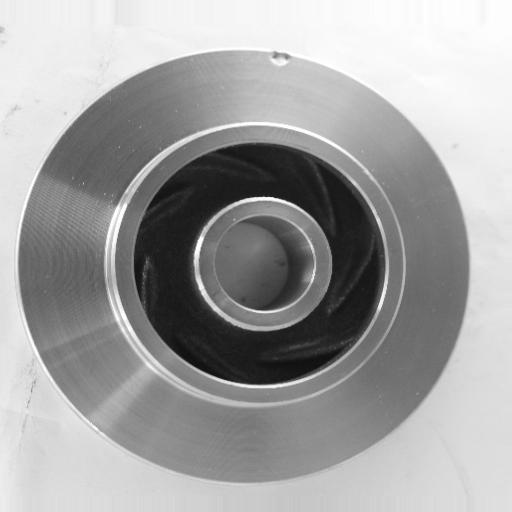crack: (259, 40, 301, 81)
unpolished_casting: (17, 48, 470, 485)
